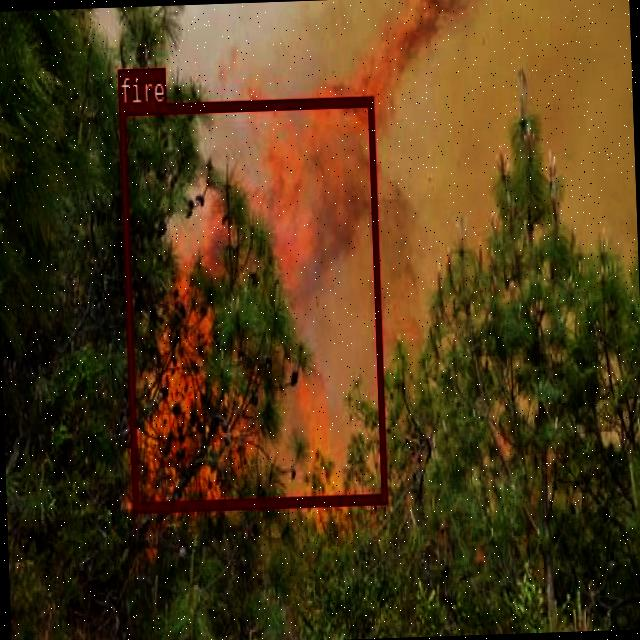fire: (118, 95, 386, 510)
